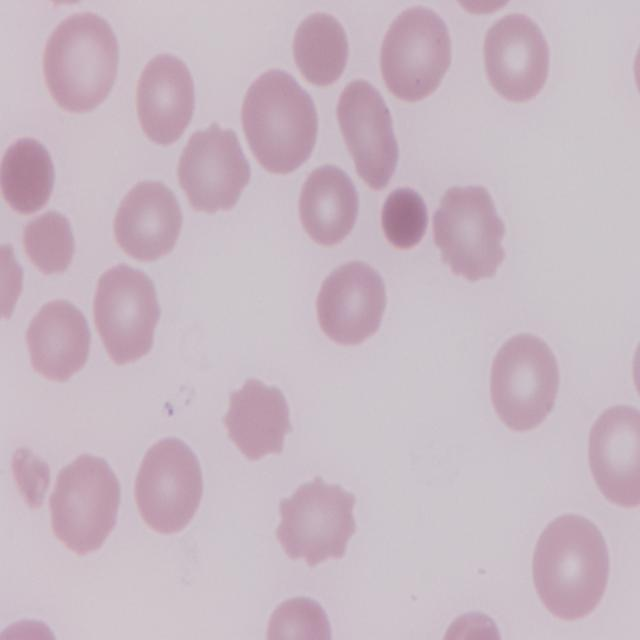RBC: (526, 507, 612, 623), (42, 7, 124, 119), (240, 68, 323, 176), (486, 329, 563, 435), (51, 453, 128, 556), (91, 260, 164, 366), (130, 432, 205, 535), (278, 476, 359, 570), (432, 185, 510, 282), (378, 4, 452, 106), (173, 121, 250, 216), (338, 79, 401, 192), (315, 256, 390, 350), (111, 172, 185, 262), (482, 9, 553, 101), (134, 51, 198, 152), (27, 293, 96, 383), (222, 372, 294, 456), (586, 404, 640, 512), (296, 164, 360, 252), (291, 8, 354, 91), (21, 205, 76, 278), (261, 592, 339, 640)
Spherocyte: (0, 136, 60, 217), (378, 187, 428, 250)
